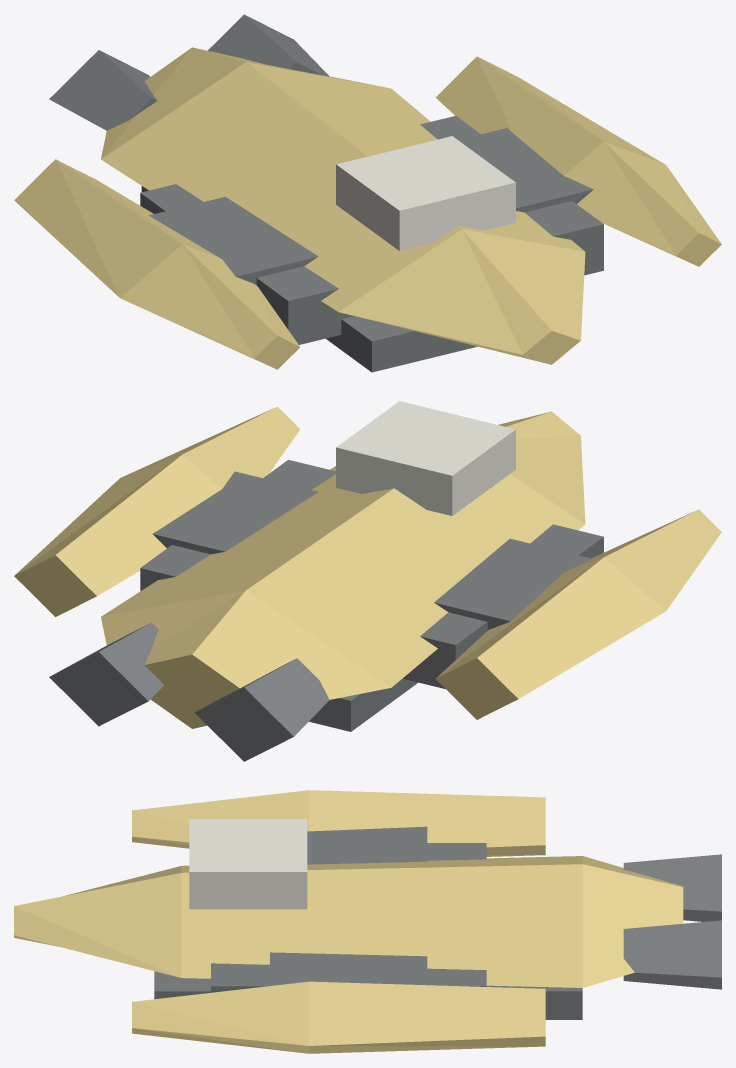
The picture shows the model from 3 angles, top to bottom: view 1: azimuth 30°, elevation 25°; view 2: azimuth 150°, elevation 25°; view 3: azimuth 270°, elevation 25°; orthographic projection. The views are drawn at different scales.
Bounding box in the file's own units: 6.26 × 1.58 × 7.55.
